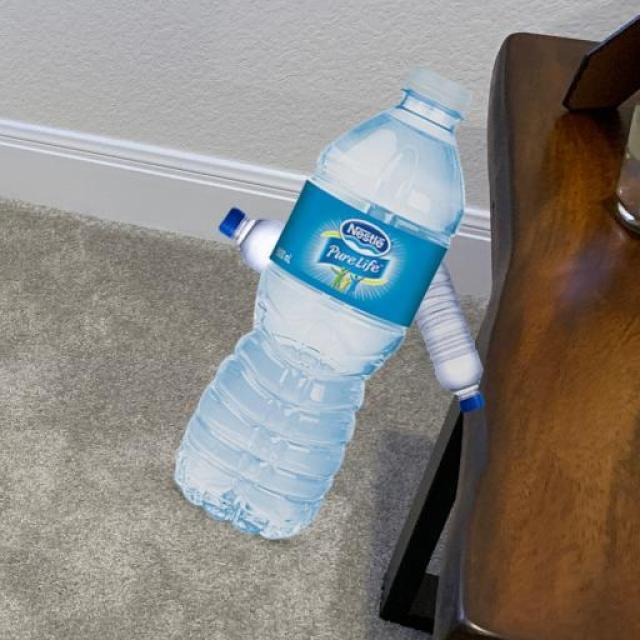bottle: (145, 69, 503, 553)
